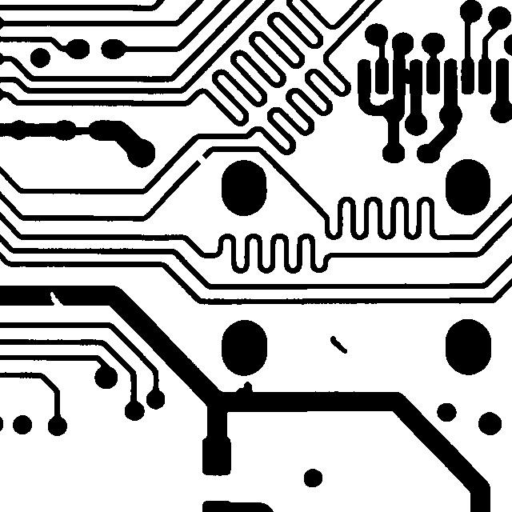copper: (322, 328, 354, 361)
mousebite: (42, 284, 72, 315)
open: (188, 146, 214, 171)
short: (394, 61, 423, 93), (65, 119, 102, 142)
spur: (228, 374, 260, 404)
